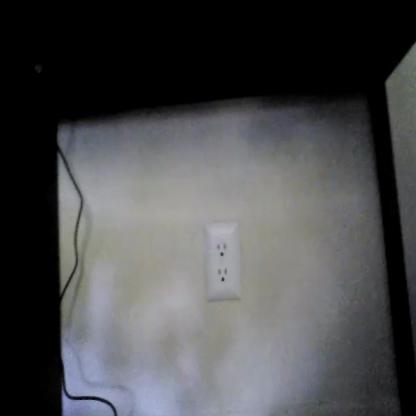OUTLET: (205, 221, 242, 301)
